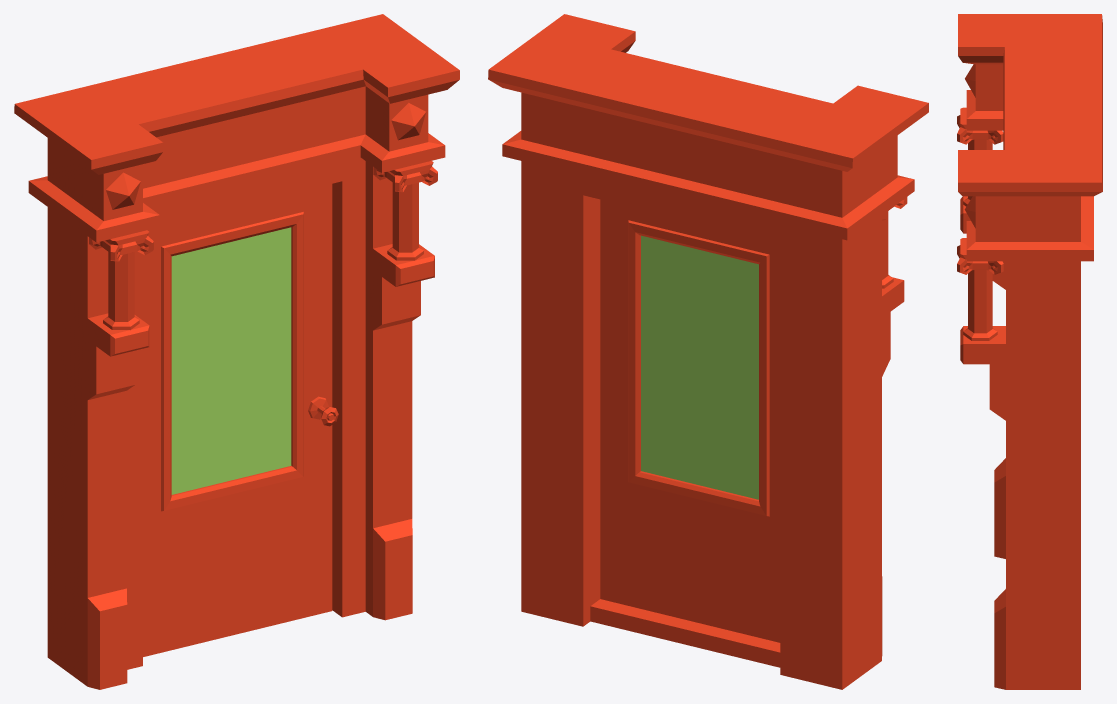
The model's file is SM_Door_Single_B_Regular_City.fbx.
3 views of the same model, side by side, from view 1: azimuth 30°, elevation 25°; view 2: azimuth 150°, elevation 25°; view 3: azimuth 270°, elevation 25° (orthographic). The views are drawn at different scales.
Parts seen in each view (by area): view 1: SM_Door_Single_B_Regular_City_Frame, SM_Door_Single_B_Regular_City_Door; view 2: SM_Door_Single_B_Regular_City_Frame, SM_Door_Single_B_Regular_City_Door; view 3: SM_Door_Single_B_Regular_City_Frame.
Part boxes in pixels (x1,y1,x2,y2): SM_Door_Single_B_Regular_City_Frame: (14, 14, 459, 689); SM_Door_Single_B_Regular_City_Door: (143, 184, 338, 656); SM_Door_Single_B_Regular_City_Frame: (488, 14, 928, 689); SM_Door_Single_B_Regular_City_Door: (600, 199, 780, 642); SM_Door_Single_B_Regular_City_Frame: (957, 14, 1102, 689).
Size of the model in its own units: 1.85 by 2.65 by 0.6744.
